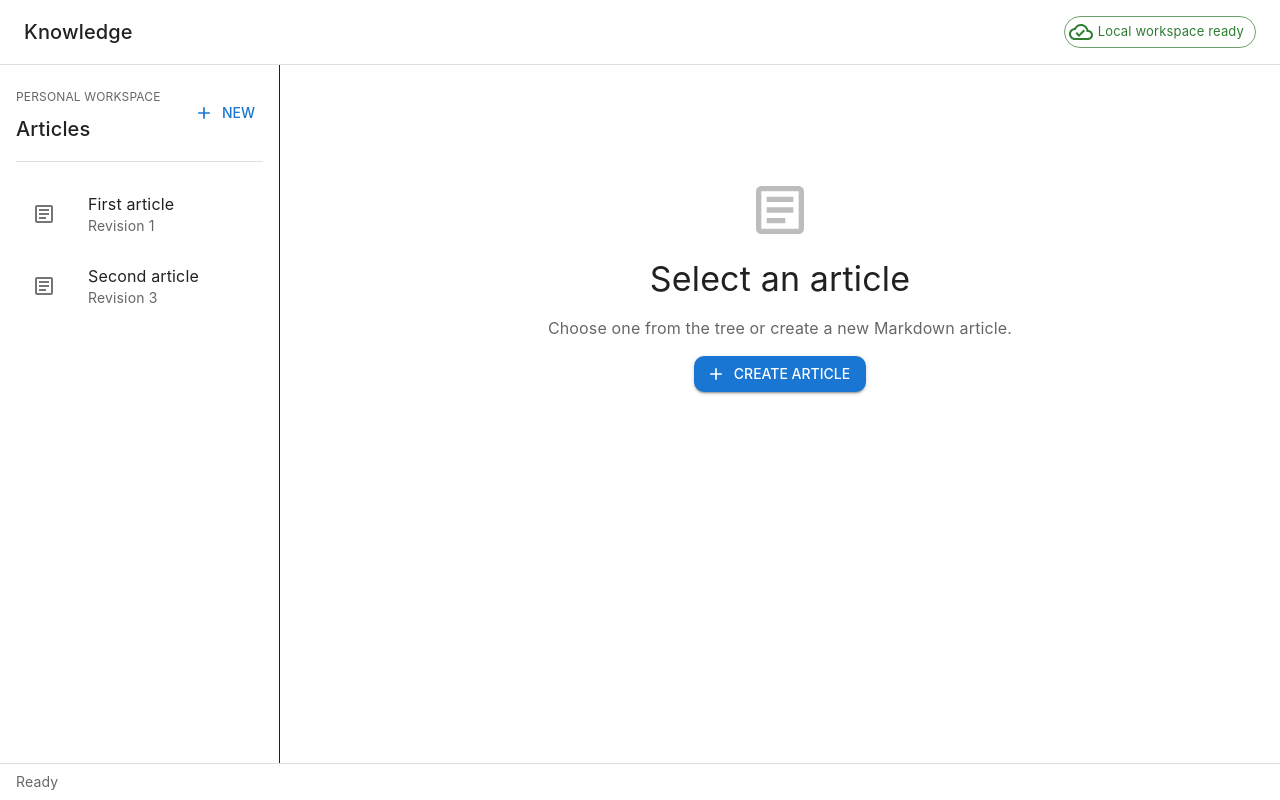
Test: keeps the latest article selection when opens finish newer-first
Click the text "First article" at (131,204), box x1=88 y1=194 x2=174 y2=214
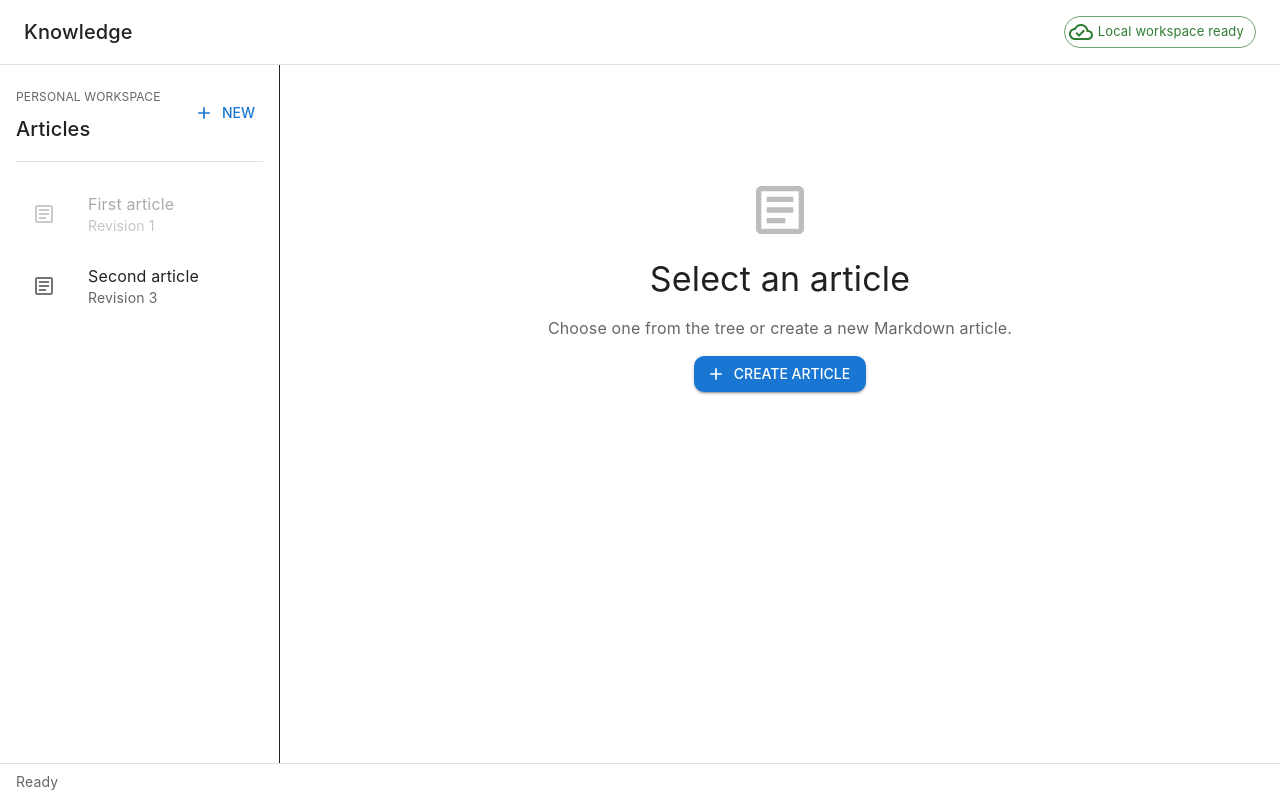
Click the text "Second article" at (143,276), box x1=88 y1=266 x2=199 y2=286
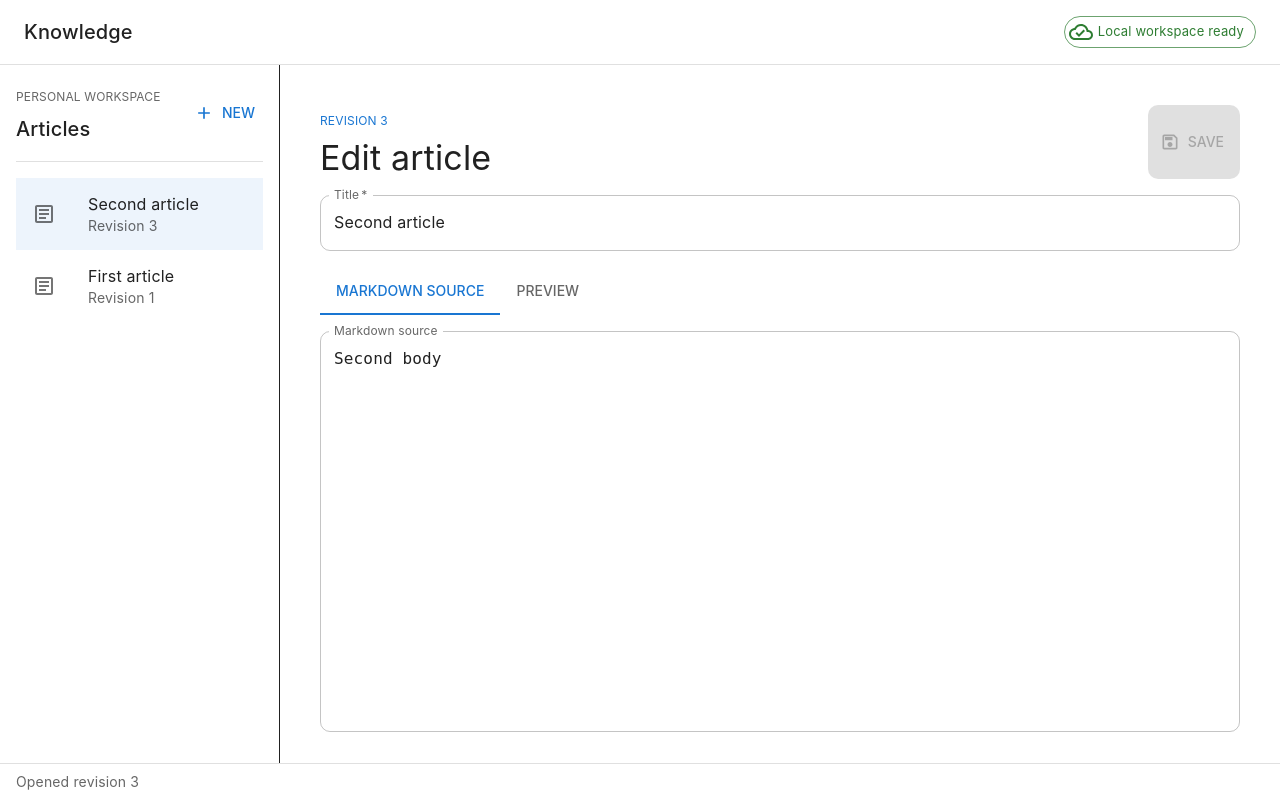
Expected: the field labelled "Title *" holds "Second article", x1=320 y1=195 x2=1240 y2=251
Expected: the text box labelled "Markdown source" holds "Second body", x1=334 y1=347 x2=1226 y2=715
Expected: the text "Opened revision 3" is shown, x1=16 y1=773 x2=139 y2=790
